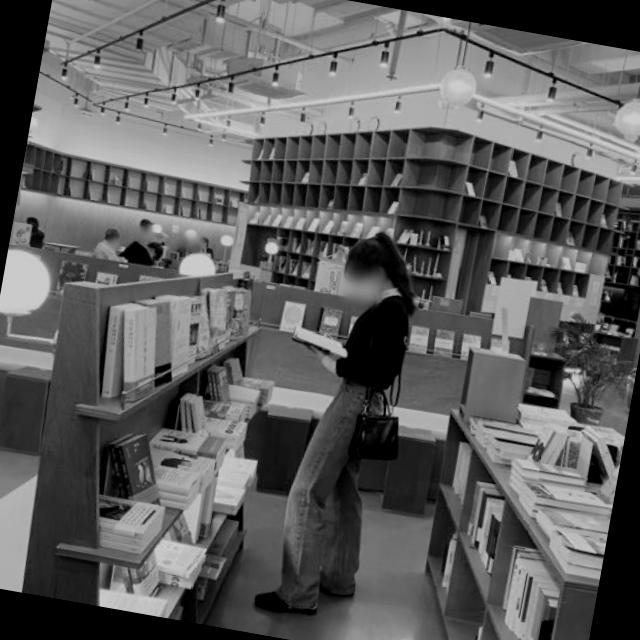cardigan: (332, 284, 415, 394)
sweater: (270, 372, 390, 618)
